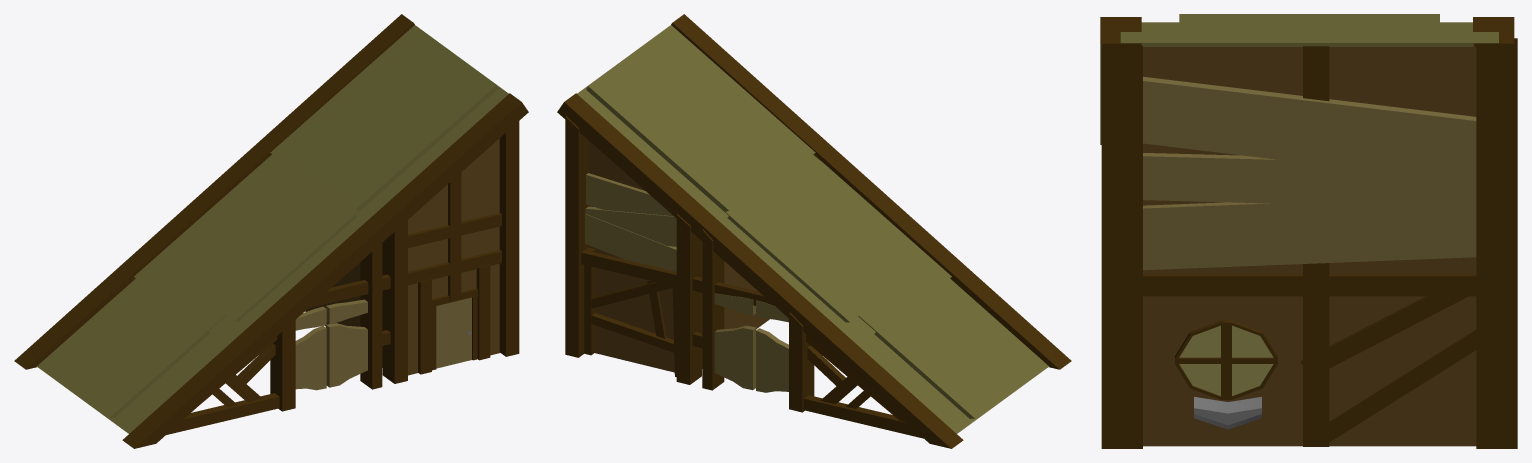
The model's file is Mesh_Farm_Ramp_2.fbx.
3 renders of one model, left to right at view 1: azimuth 30°, elevation 25°; view 2: azimuth 150°, elevation 25°; view 3: azimuth 270°, elevation 25°, orthographic. The views are drawn at different scales.
Parts seen in each view (by area): view 1: Farm_Ramp_2; view 2: Farm_Ramp_2; view 3: Farm_Ramp_2.
Part boxes in pixels (x1,y1,x2,y2): Farm_Ramp_2: (14,14,528,448); Farm_Ramp_2: (557,14,1071,448); Farm_Ramp_2: (1100,14,1517,448).
Size of the model in its own units: 1401 by 858 by 743.
1 material, 1 textured.
